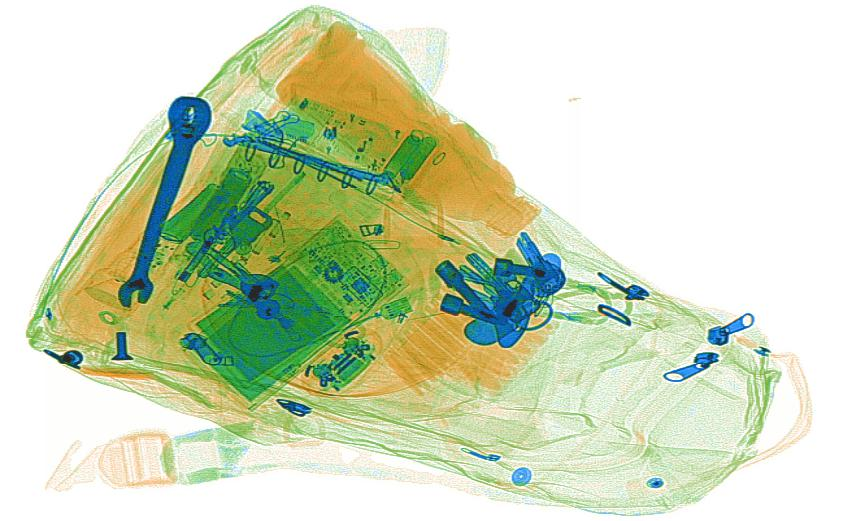battery: (185, 165, 254, 244), (157, 180, 232, 243), (379, 132, 439, 184)
